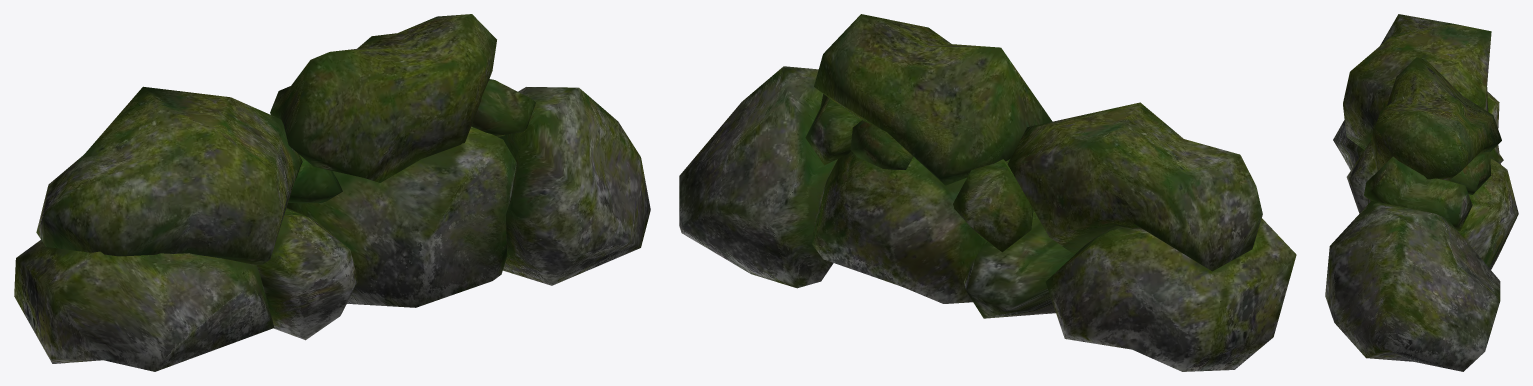
File: fan_mossrock.glb
3 views of the same model, side by side, from view 1: azimuth 30°, elevation 25°; view 2: azimuth 150°, elevation 25°; view 3: azimuth 270°, elevation 25° (orthographic). The views are drawn at different scales.
Visible parts, largest first — view 1: 1_lp_rock_0; view 2: 1_lp_rock_0; view 3: 1_lp_rock_0.
Boxes of the visible parts, x1=… form: 1_lp_rock_0: x1=14, y1=14, x2=650, y2=371; 1_lp_rock_0: x1=679, y1=14, x2=1296, y2=371; 1_lp_rock_0: x1=1325, y1=14, x2=1518, y2=371.
Bounding box in the file's own units: 449 × 195 × 156.
1 material, 1 textured.
